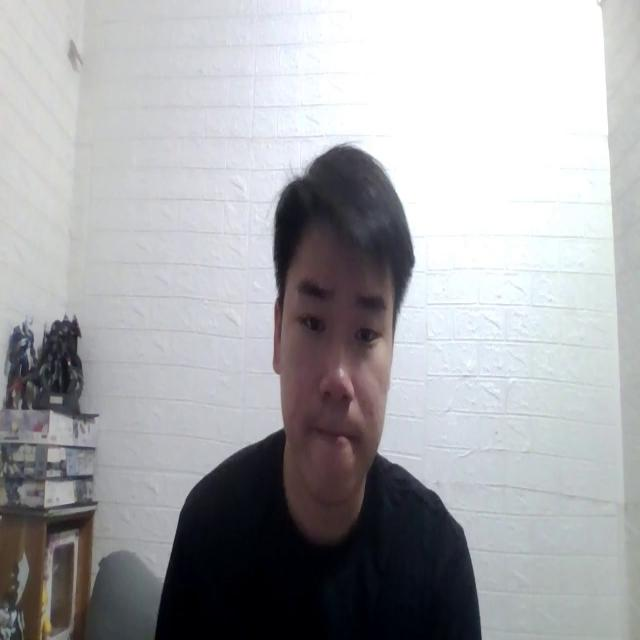student: (146, 135, 485, 640)
